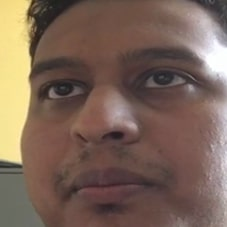awake: (22, 40, 218, 217)
